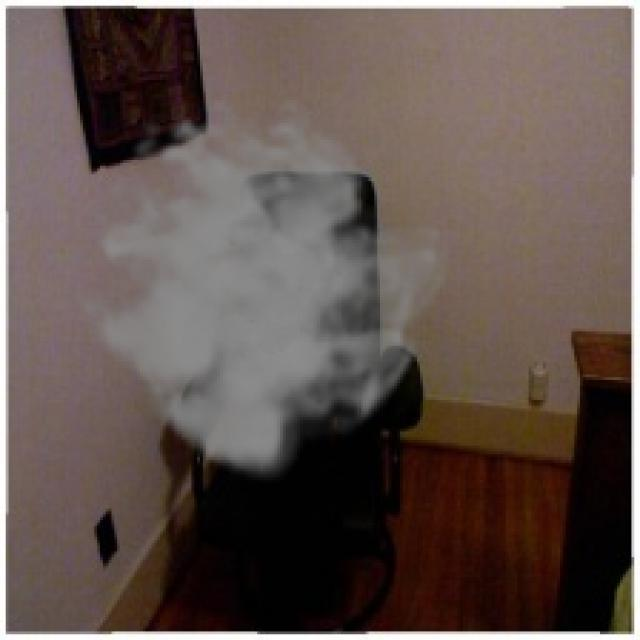Smoke: (60, 94, 457, 483)
